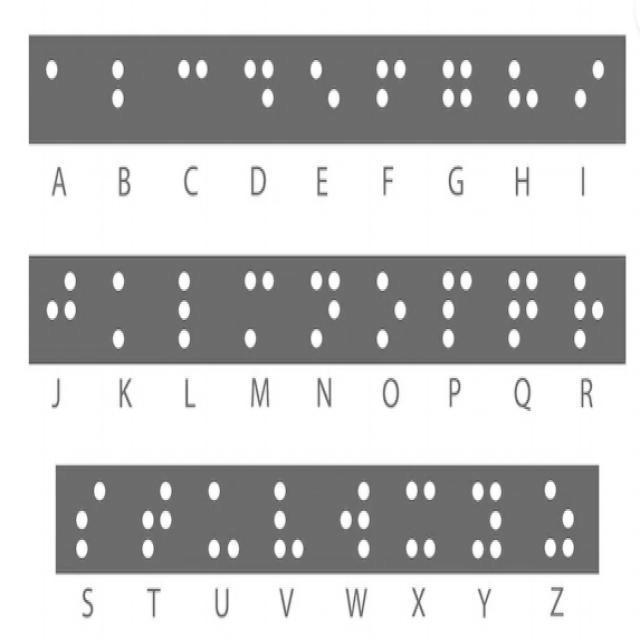braiile: (31, 34, 93, 144), (100, 33, 158, 144), (497, 32, 550, 146), (562, 31, 614, 142), (168, 254, 220, 364), (499, 252, 548, 366), (262, 462, 312, 573), (332, 463, 382, 572), (34, 256, 86, 360), (102, 258, 156, 358), (432, 254, 482, 360), (132, 465, 182, 571), (396, 467, 446, 573), (67, 465, 116, 573), (200, 464, 247, 576), (300, 38, 350, 142), (434, 36, 482, 142), (234, 256, 282, 362), (464, 465, 512, 571), (370, 40, 418, 144), (235, 33, 282, 138), (168, 36, 216, 138), (566, 258, 612, 364), (368, 256, 416, 356), (536, 467, 581, 573), (301, 258, 348, 358)
